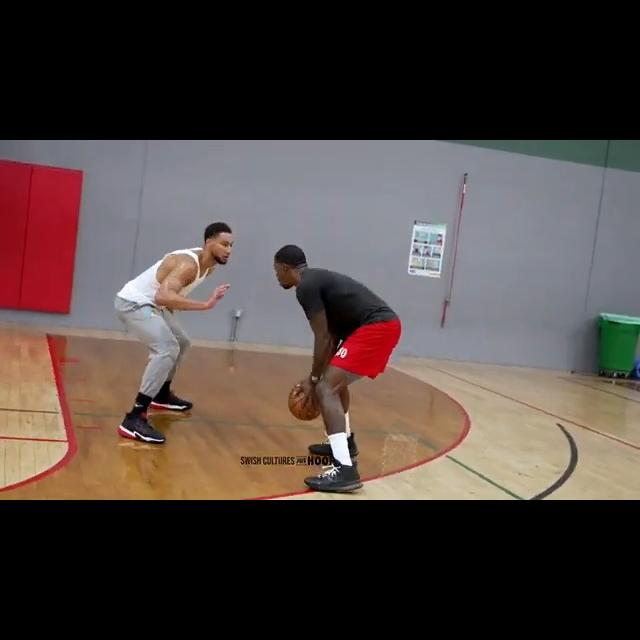basketball: (286, 383, 323, 420)
